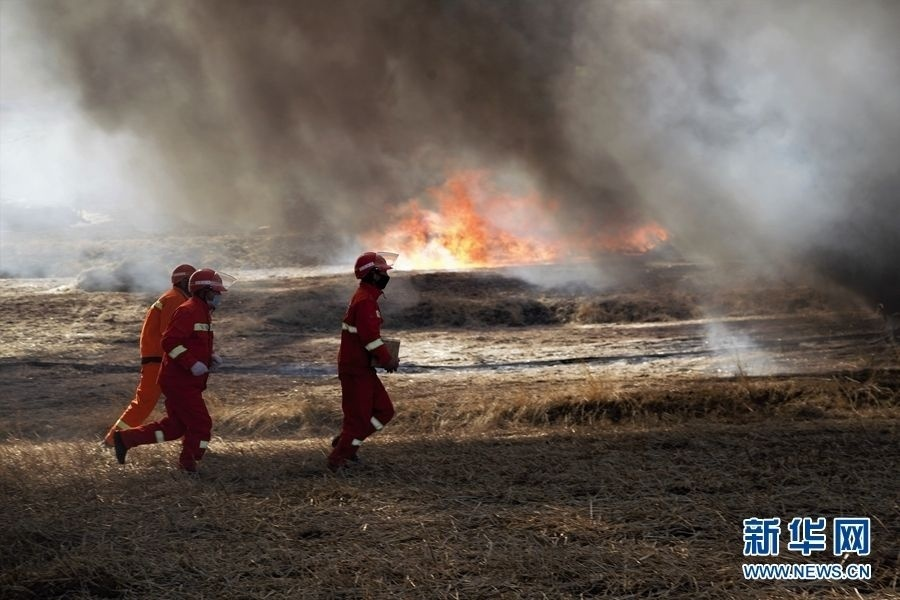fire: (379, 179, 679, 270)
